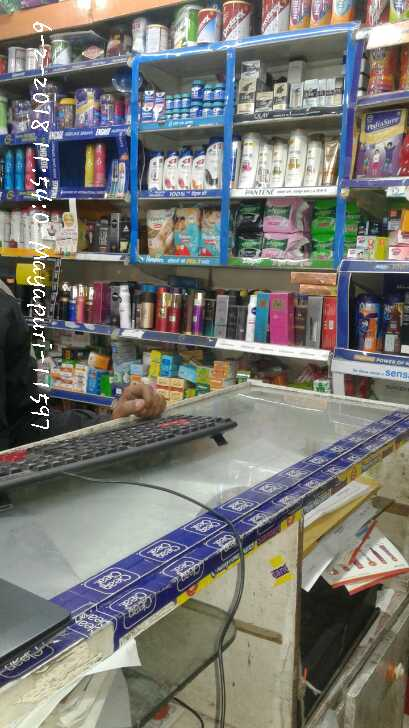vicks: (137, 71, 225, 124)
